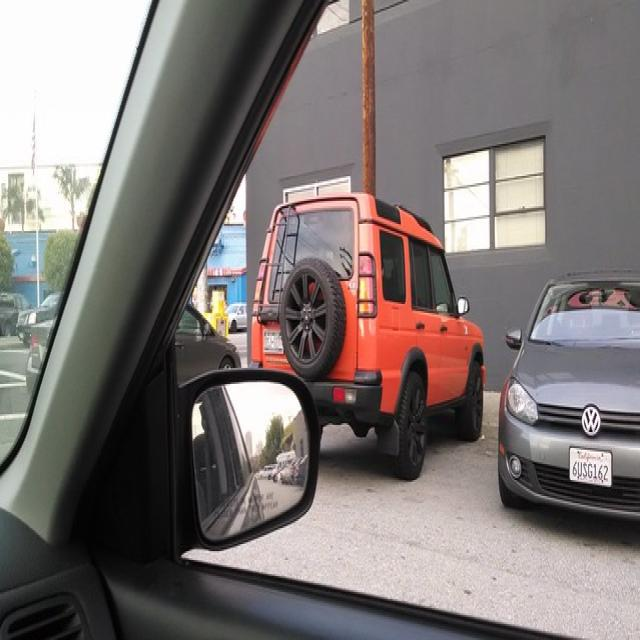car: (3, 3, 640, 640), (495, 260, 640, 536), (28, 275, 241, 411)
mirror: (3, 2, 640, 640), (168, 361, 320, 559), (532, 281, 640, 347), (272, 206, 358, 284), (378, 228, 408, 302), (411, 240, 436, 312), (432, 241, 456, 316), (456, 296, 469, 316)
wheel: (395, 372, 431, 482), (463, 356, 485, 444), (498, 472, 538, 512), (218, 352, 237, 370), (2, 318, 15, 343), (230, 316, 240, 334)
